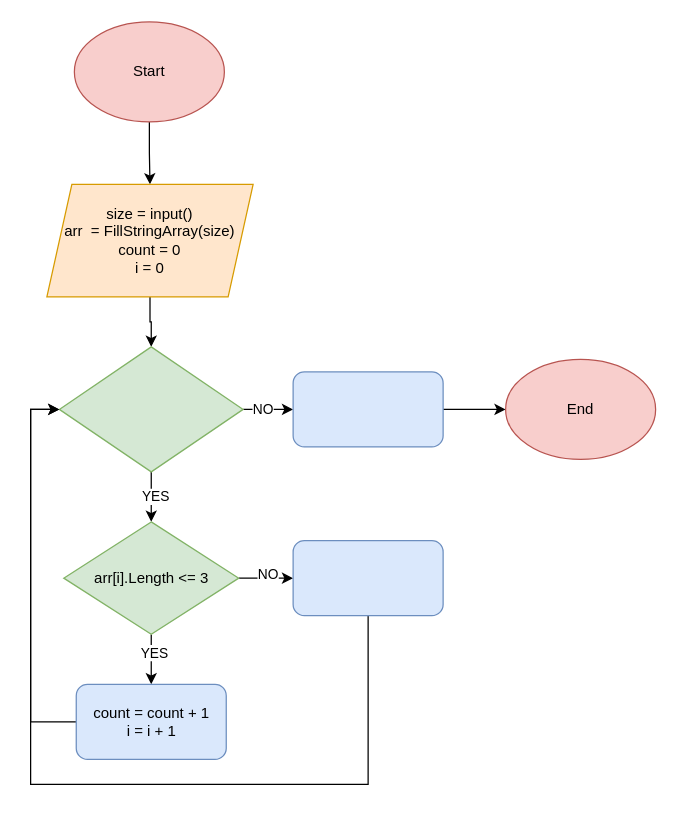
Image size: 678x816. Some labels were removed from this diagram. Each missing label, with the centre of its shape:
i < size: point 150,409
i =i i + 1: point 367,577
return count: point 367,409
